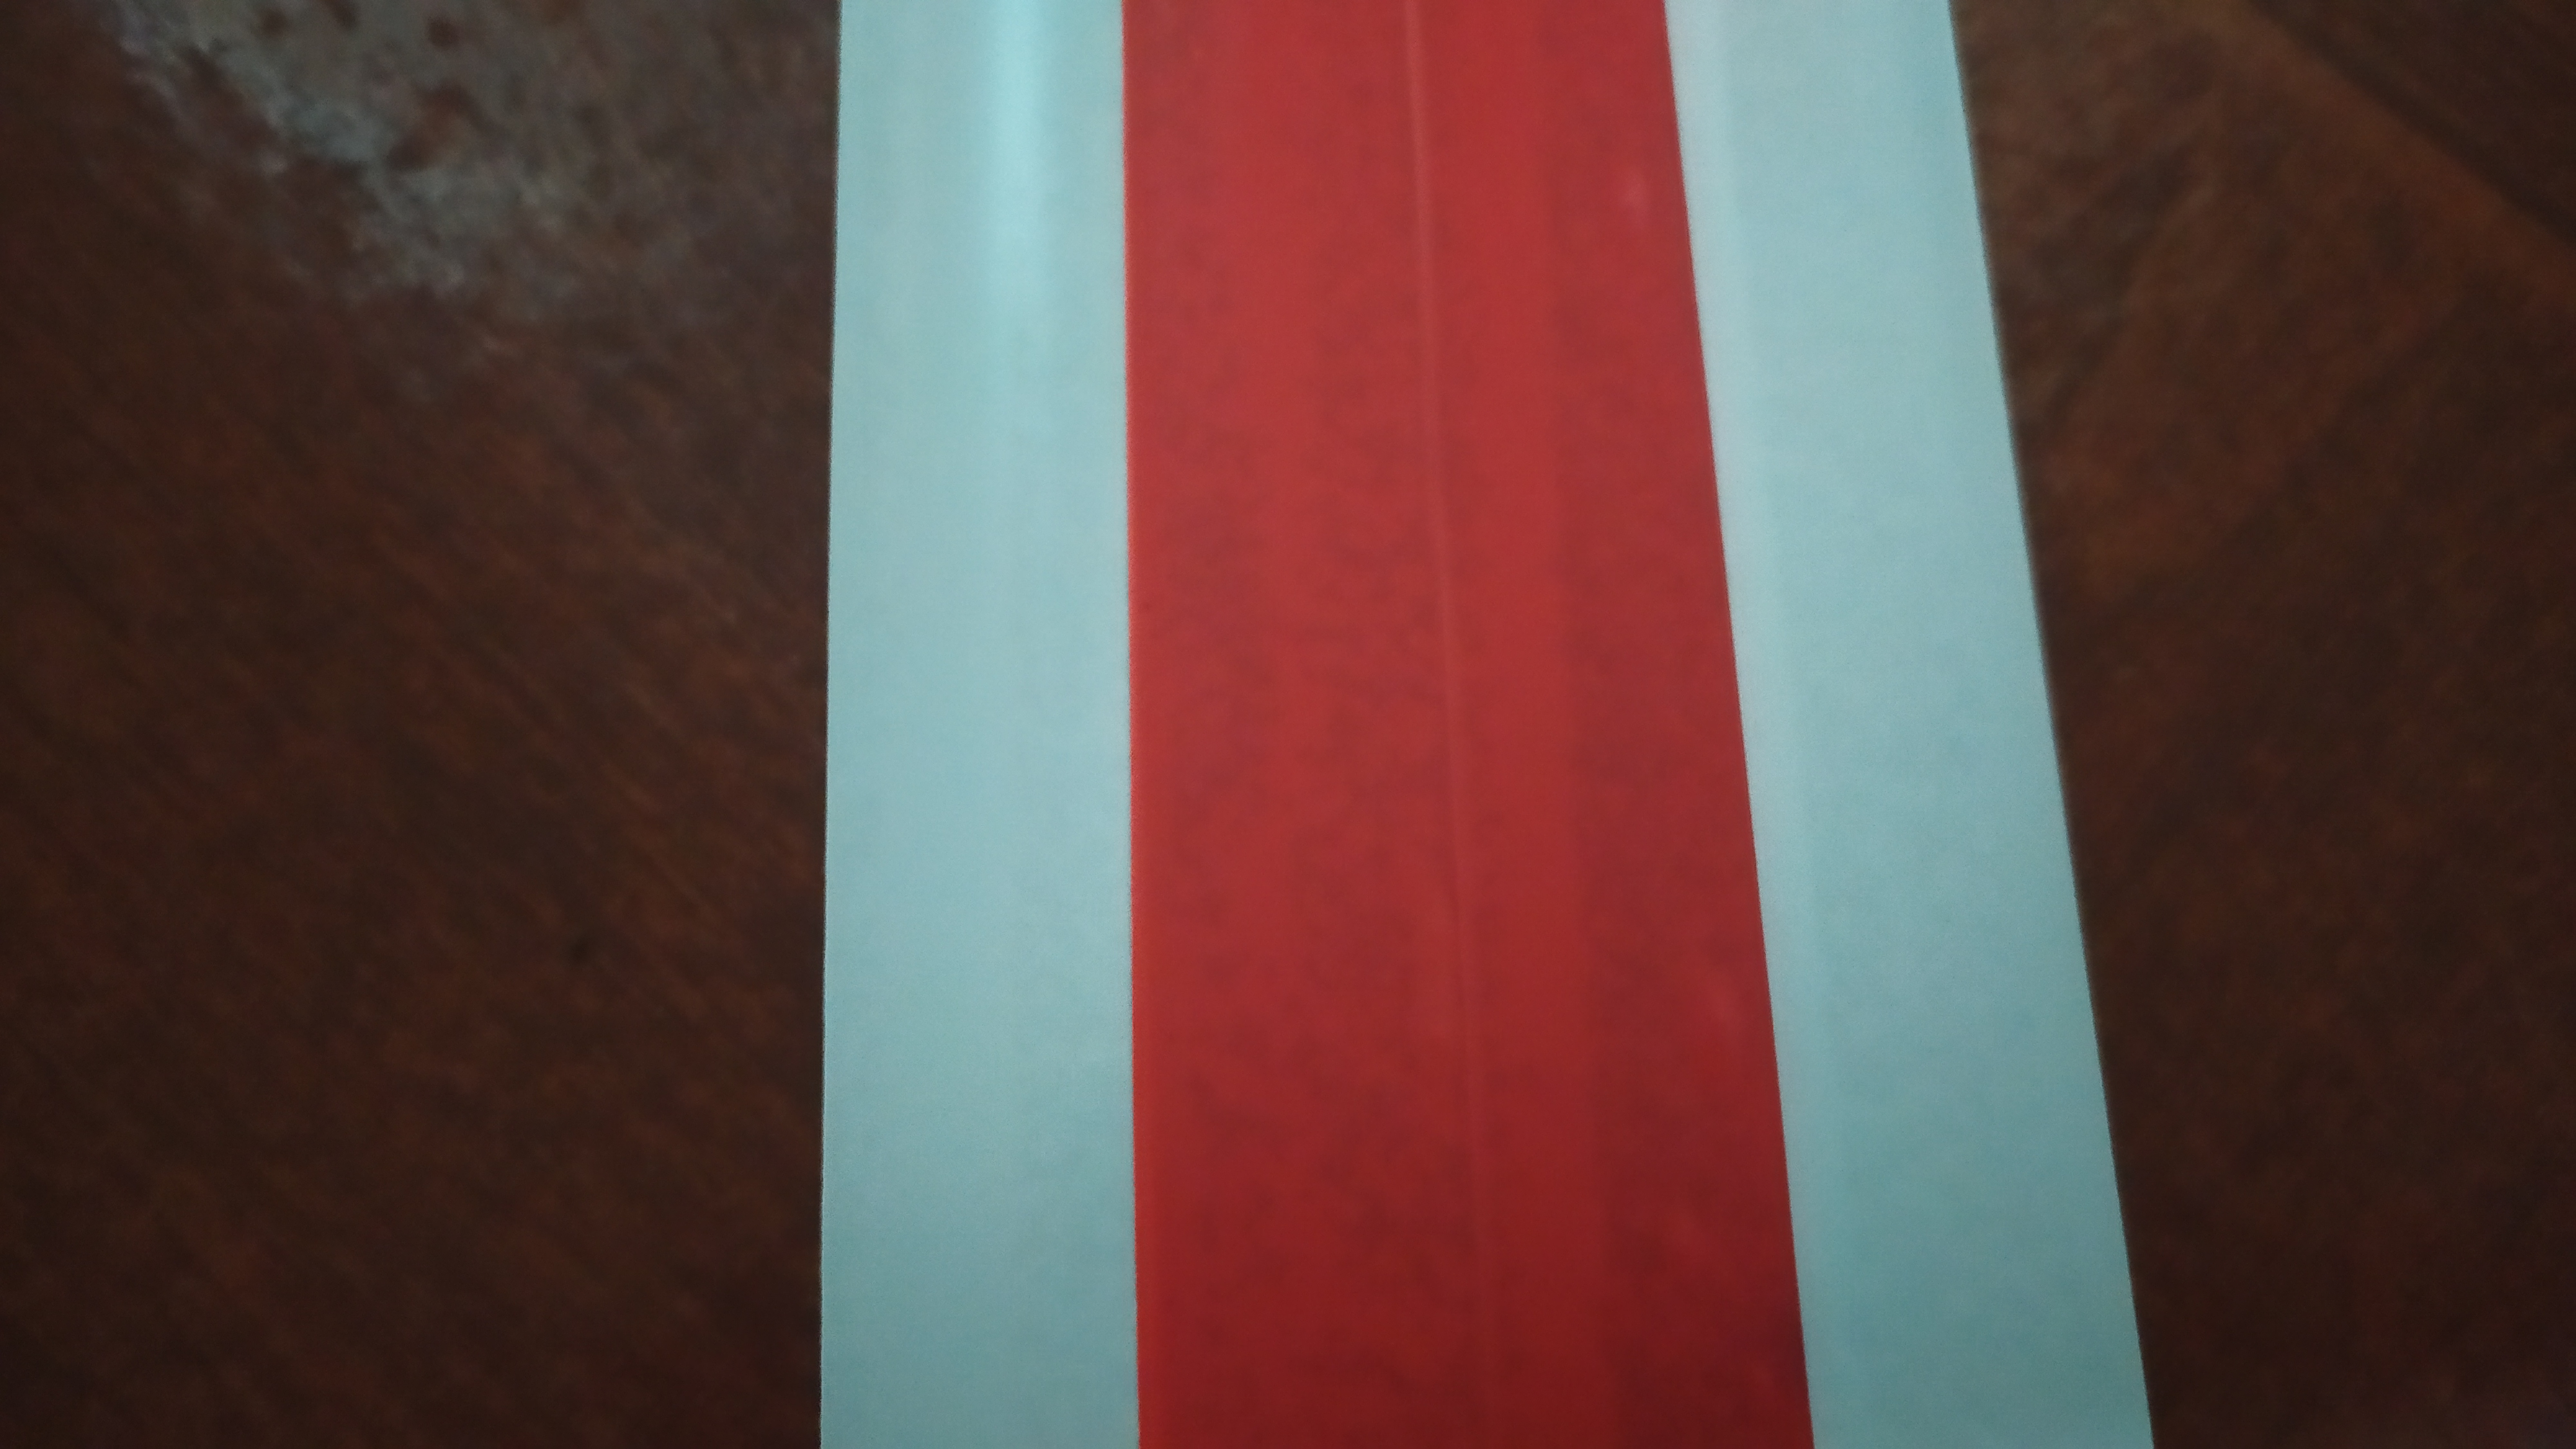faixa_reta: (826, 16, 2118, 1449)
